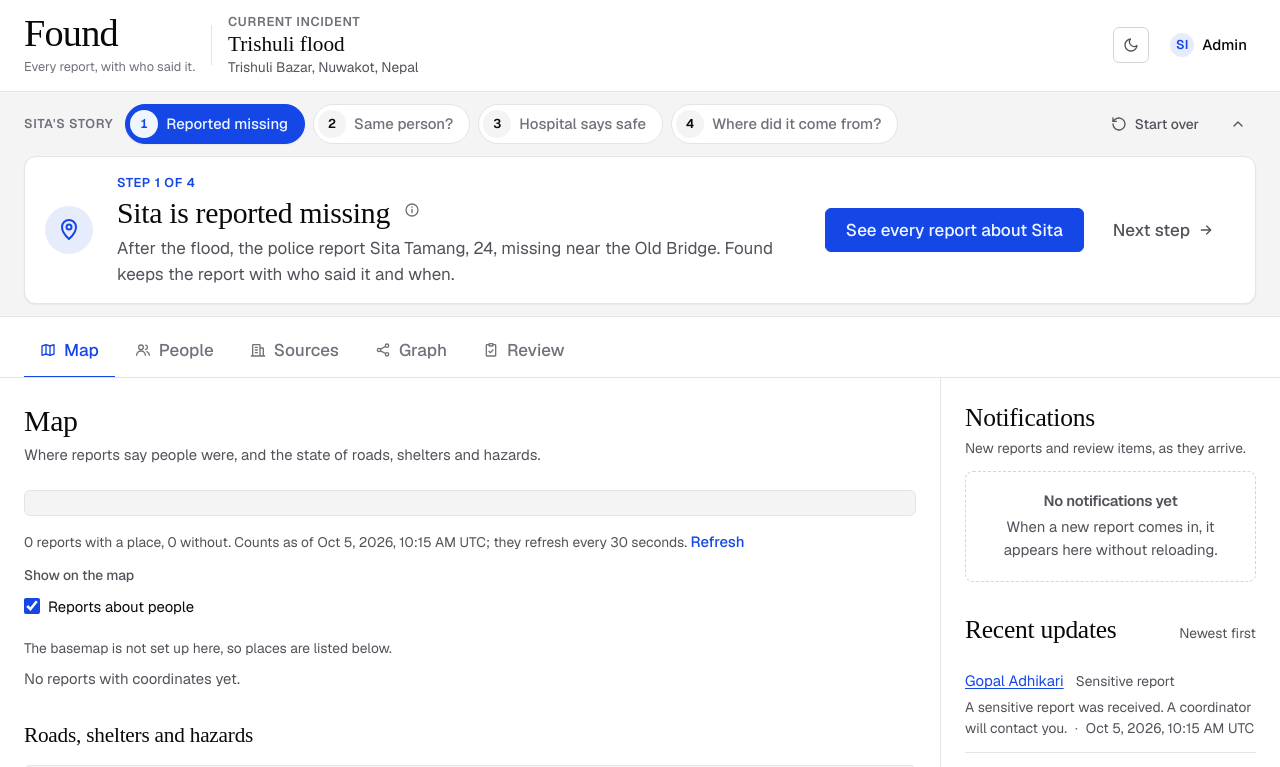
Scenario: app shell › lets an admin start the demo over after confirming
Click the button "Start over" at [1155, 124], box [1098,109,1212,139]
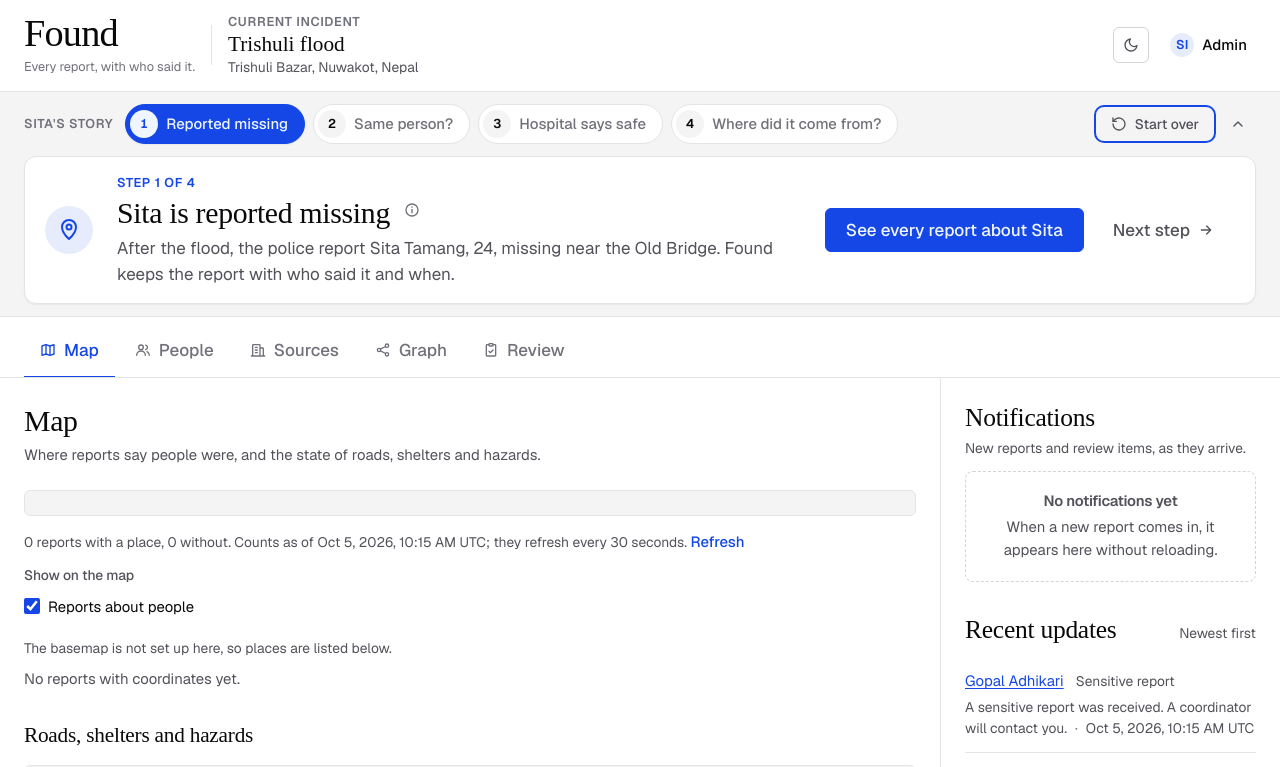
Click the button "Start over" at [1155, 124], box [1098,109,1212,139]
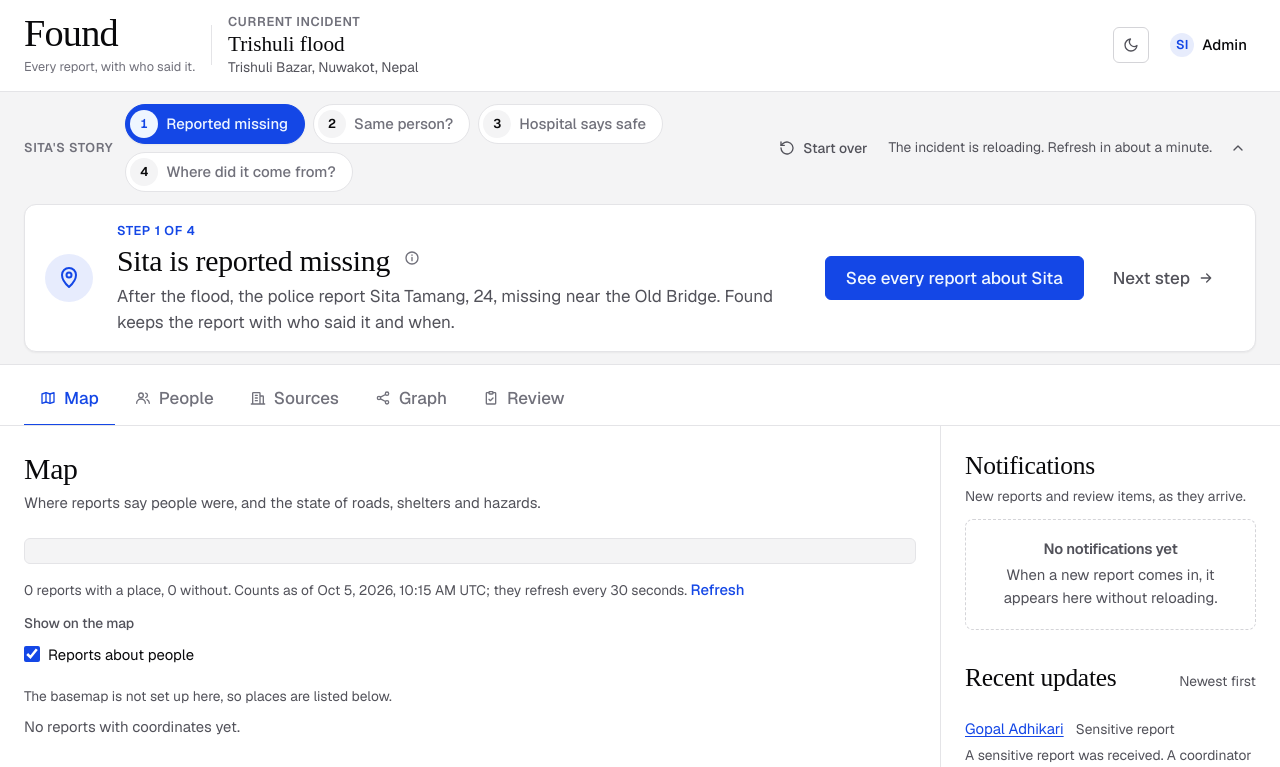
Now the text "The incident is reloading. Refresh in about a minute." is shown, box [888,137,1212,158]
